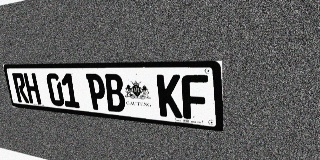0: (45, 73, 65, 107)
1: (59, 73, 80, 108)
B: (103, 74, 126, 113)
F: (181, 75, 209, 121)
H: (23, 73, 42, 104)
K: (156, 74, 183, 118)
P: (86, 74, 108, 111)
R: (12, 73, 29, 103)
